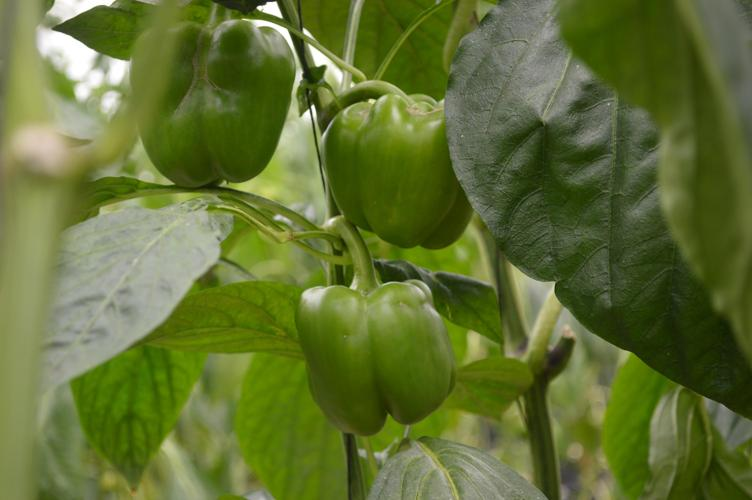BellPepper: (285, 280, 455, 434), (125, 22, 290, 179), (323, 89, 472, 248)
